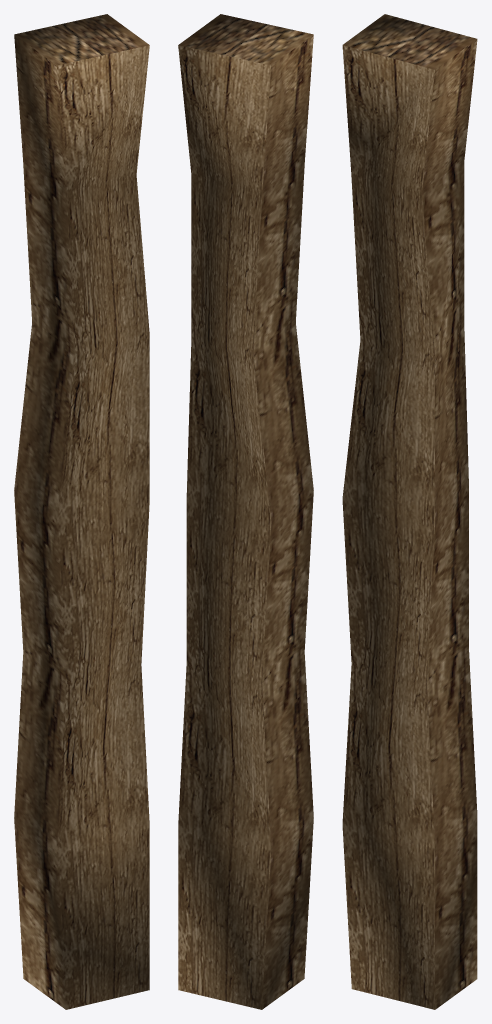
The model's file is fence_post.dae.
3 renders of one model, left to right at view 1: azimuth 30°, elevation 25°; view 2: azimuth 150°, elevation 25°; view 3: azimuth 330°, elevation 25°, orthographic.
Visible parts, largest first — view 1: meshU3D; view 2: meshU3D; view 3: meshU3D.
Part boxes in pixels (bbox=[...]): meshU3D: bbox=[14, 14, 149, 1009]; meshU3D: bbox=[178, 14, 313, 1009]; meshU3D: bbox=[342, 14, 477, 1009].
Bounding box in the file's own units: 0.8874 × 8.62 × 0.7021.
